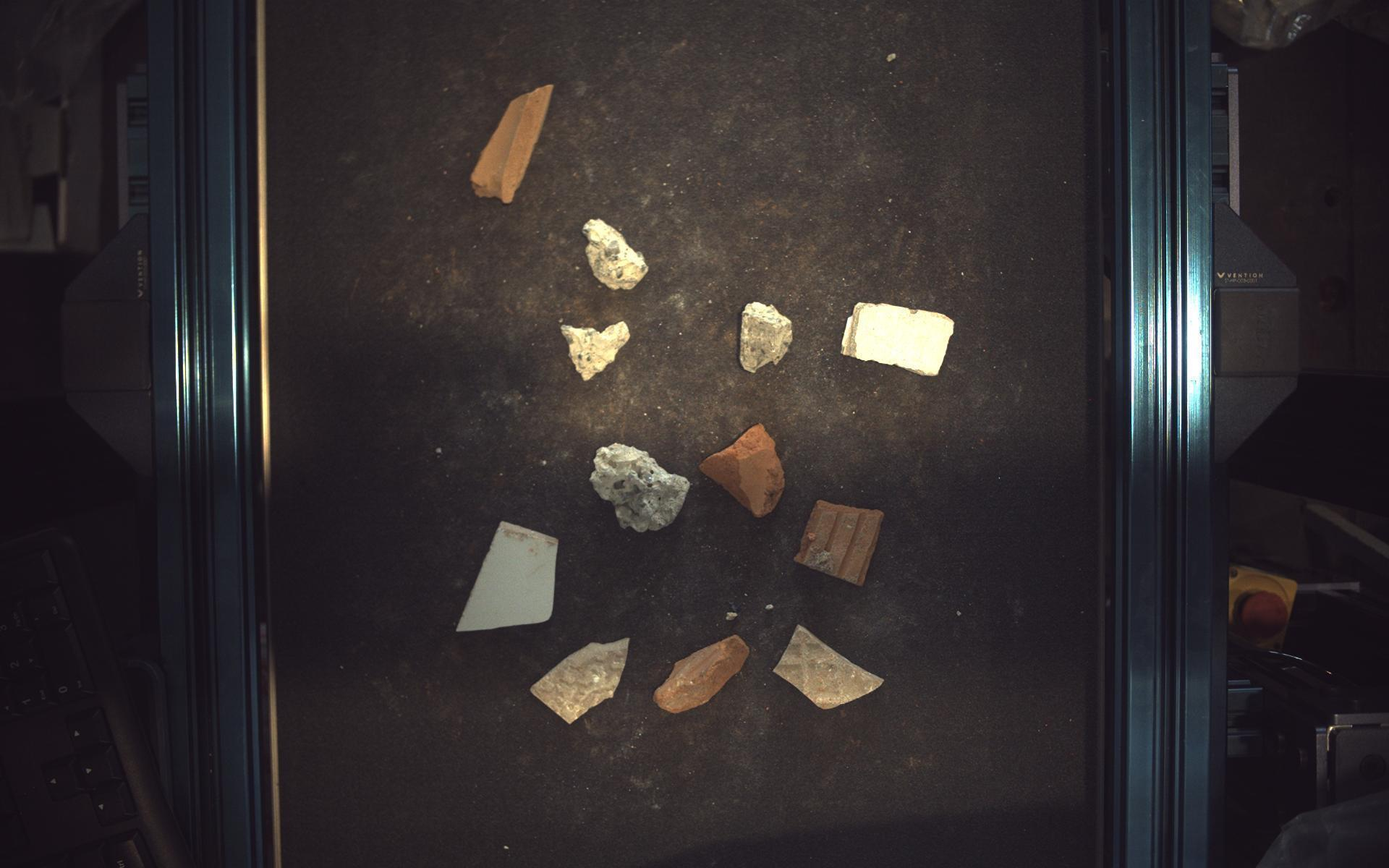brick: (471, 83, 553, 203), (700, 425, 786, 518), (654, 636, 750, 715), (797, 501, 885, 587)
concrete: (591, 443, 691, 532), (583, 218, 650, 289), (561, 321, 631, 380), (742, 302, 794, 373)
tile: (456, 522, 558, 633), (775, 626, 885, 710), (531, 639, 630, 724), (843, 302, 956, 375)
